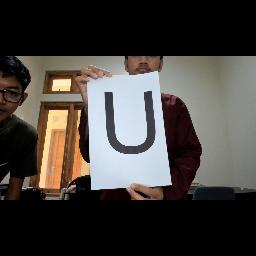u: (97, 89, 165, 161)
